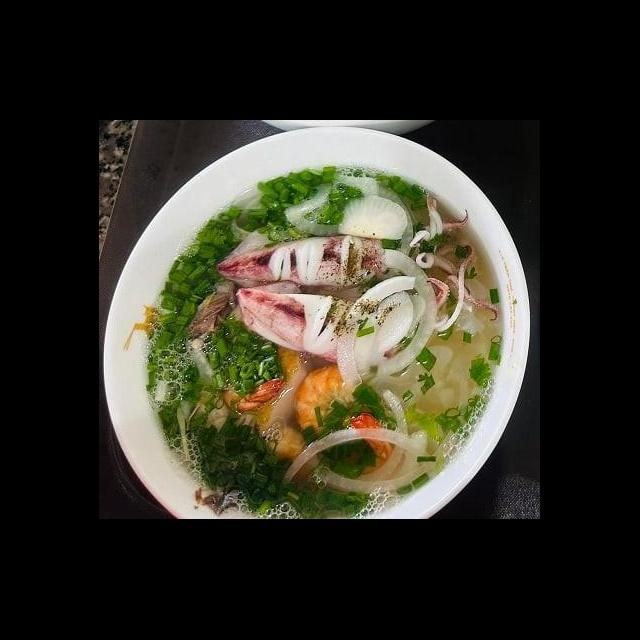muc: (234, 250, 502, 372), (212, 188, 478, 302)
tom: (260, 408, 408, 499), (286, 362, 391, 448)
